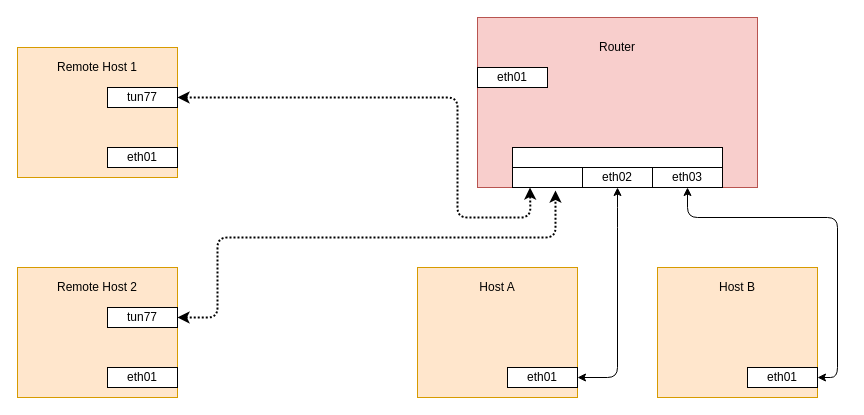
Some shapes in this 864 by 415 pixel diagram are drawn without their labels. The shapes that lost their labels are listed below. From the top down, each one's centre as x and y in pixels, then its label:
the point at 547,177: tun01
the point at 617,157: Bridge
